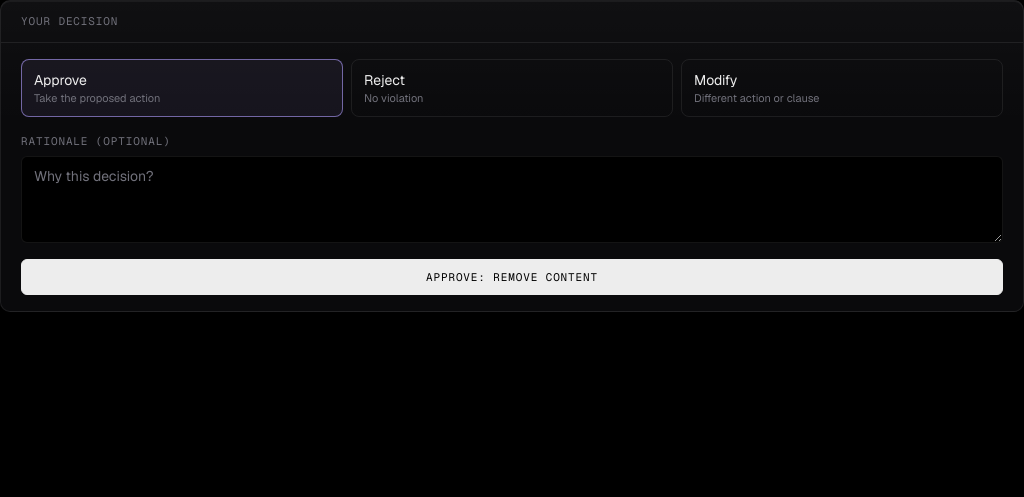
DecisionForm › requires a rationale when the action is modified, and keeps submit disabled until valid
This screenshot has width=1024, height=497.
Click the radio button labelled "Modify Different action or clause": (716, 80) [681,58,1003,117]
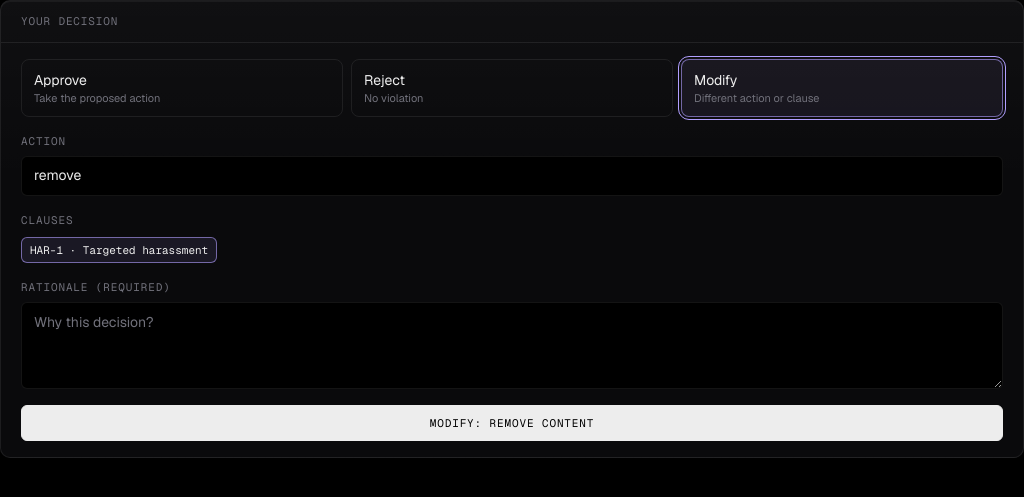
Select "label" in the dropdown labelled "Action": (512, 176) [21,156,1003,196]
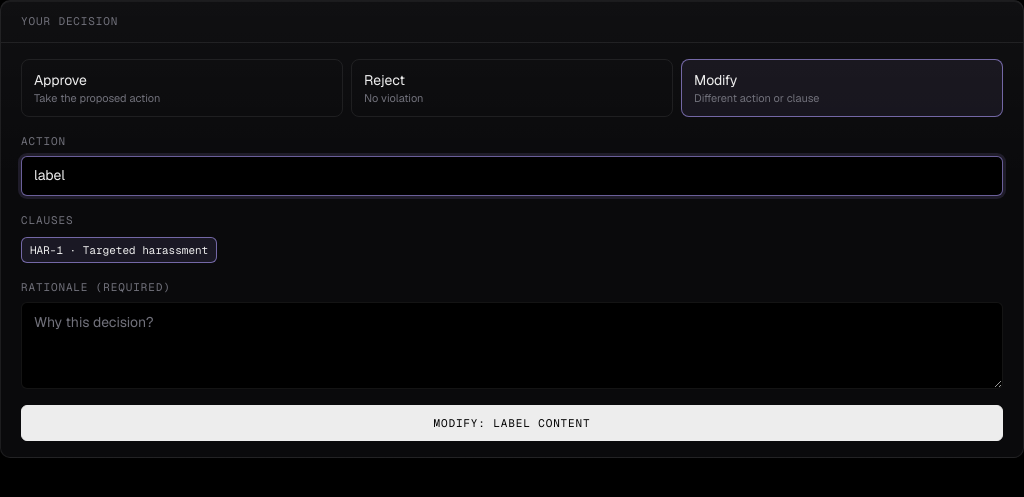
Click the button "Modify: label content": (512, 423) [21,405,1003,441]
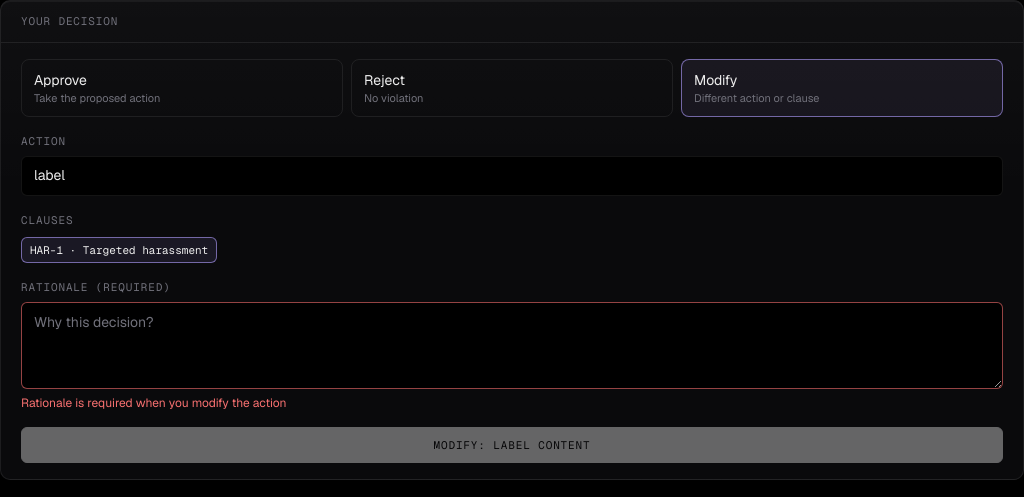
Expected: the text "Rationale is required when you modify the action" is shown, [21,395,287,411]
Expected: the button "Modify: label content" is disabled, [21,427,1003,463]
In the text box with placeholder "Why this decision?": (512, 346) [21,302,1003,389], type "Mild insult, label it."
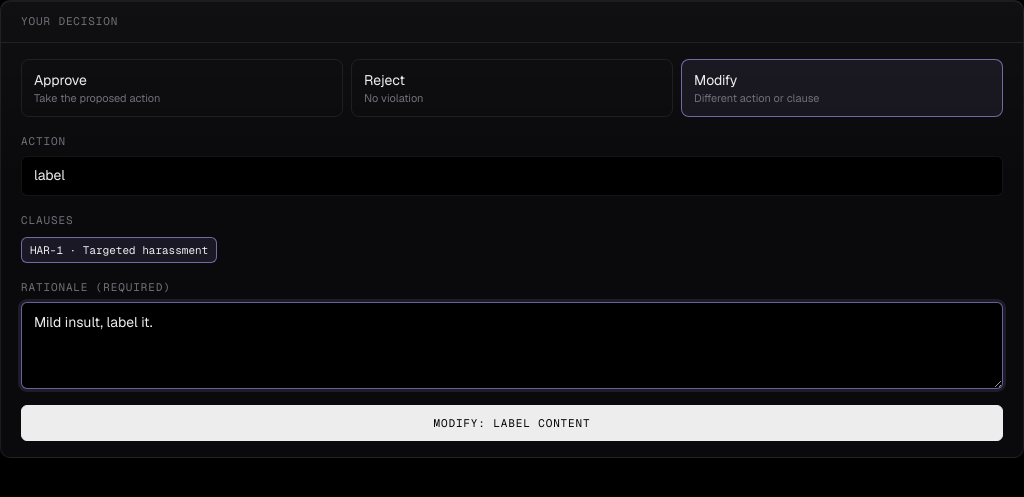
Expected: the button "Modify: label content" is enabled, [21,405,1003,441]
Expected: the text "Rationale is required when you modify the action" is gone
